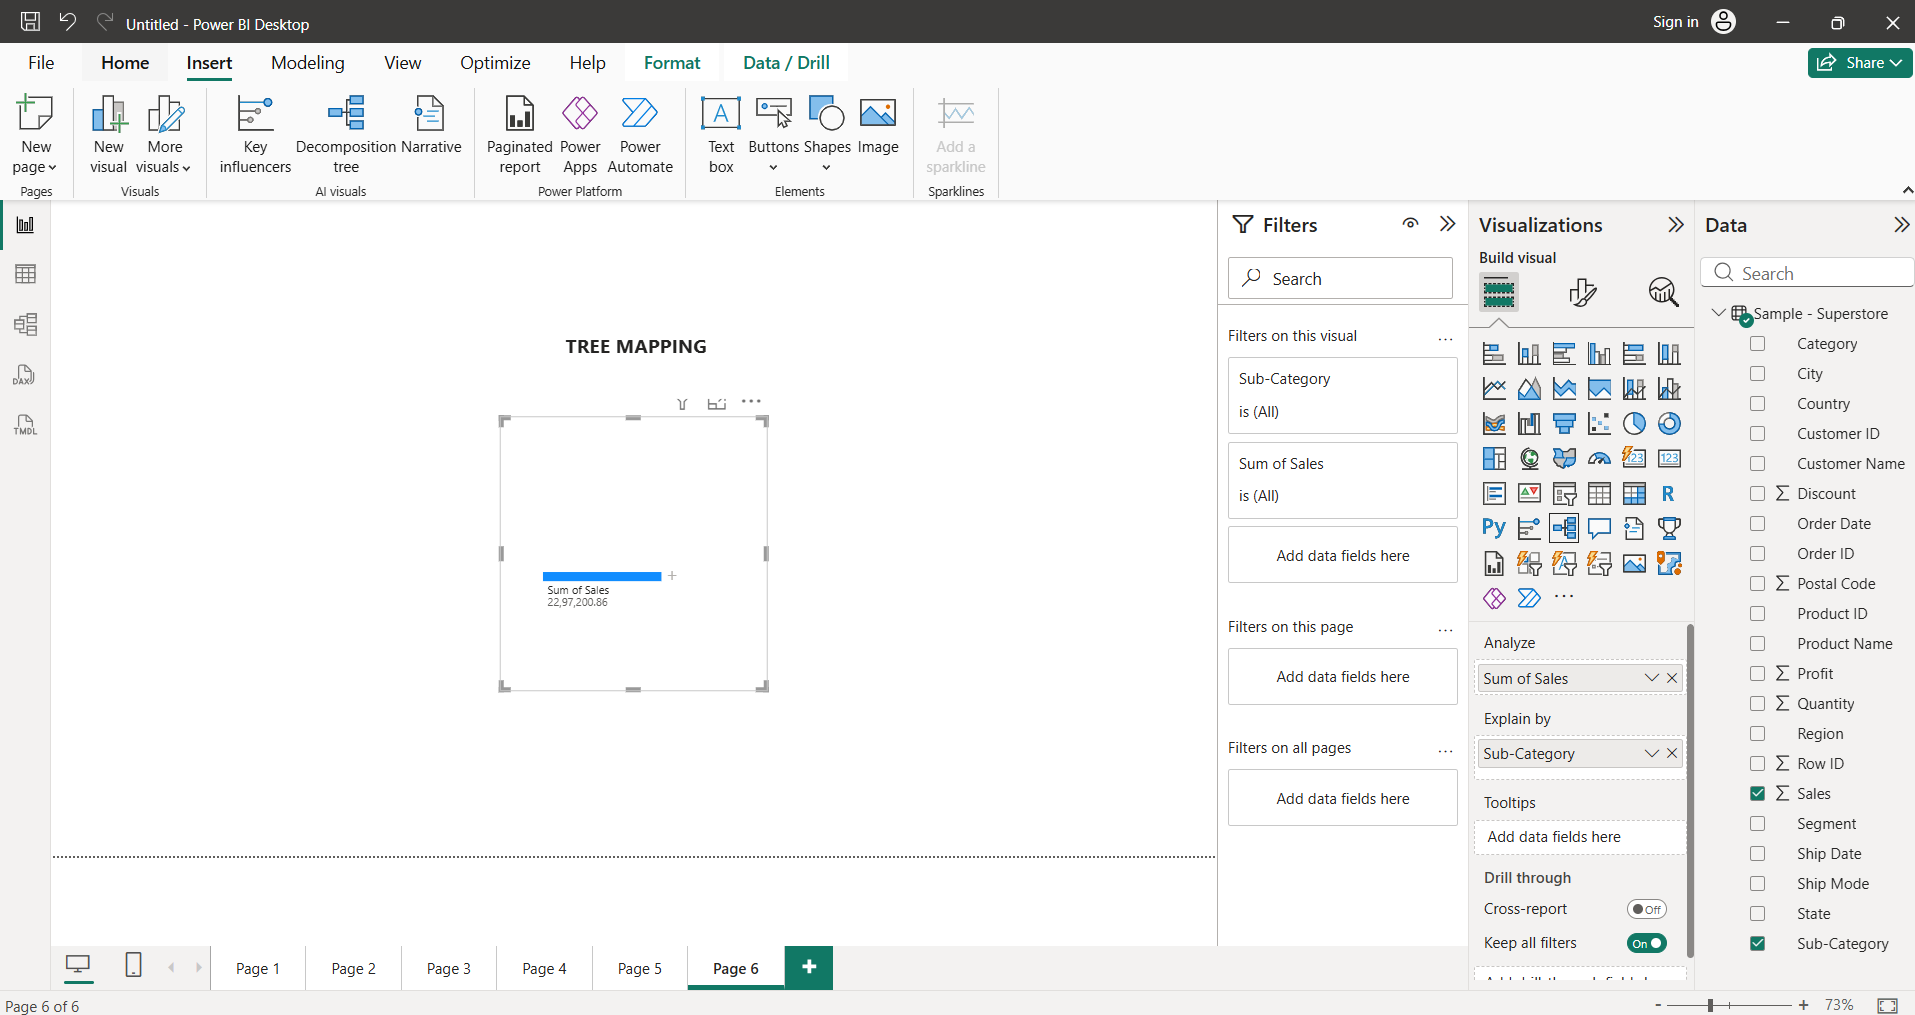

This screenshot's page, from the dashboard's own definition file:
{"tool":"powerbi","page":{"name":"Page 7","canvas":[1280,720],"ordinal":6},"visuals":[{"type":"decompositionTreeVisual","fields":{"ExplainBy":["Sample - Superstore.Sub-Category"],"Analyze":["Sum(Sample - Superstore.Sales)"]},"box":[484.5,205.6,280.3,284.5],"z":0},{"type":"textbox","box":[547.9,93,343.7,87.3],"z":1000}]}

Visuals, with their boxes on the page's 1280x720 design canvas (x1, y1, x2, y2). These are canvas units, not pixel positions in the 1915x1015 screenshot, which may show the page scaled, cropped or inside an application window:
decompositionTreeVisual - Sample - Superstore.Sub-Category x Sum(Sample - Superstore.Sales): select_region(484, 206, 765, 490)
textbox: select_region(548, 93, 892, 180)
